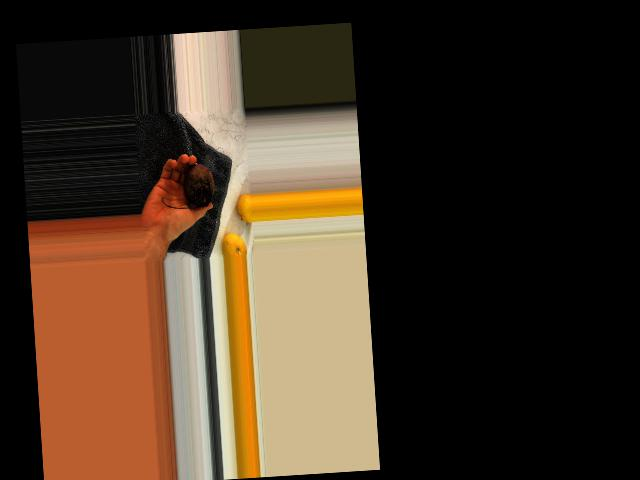beet: (159, 162, 215, 208)
